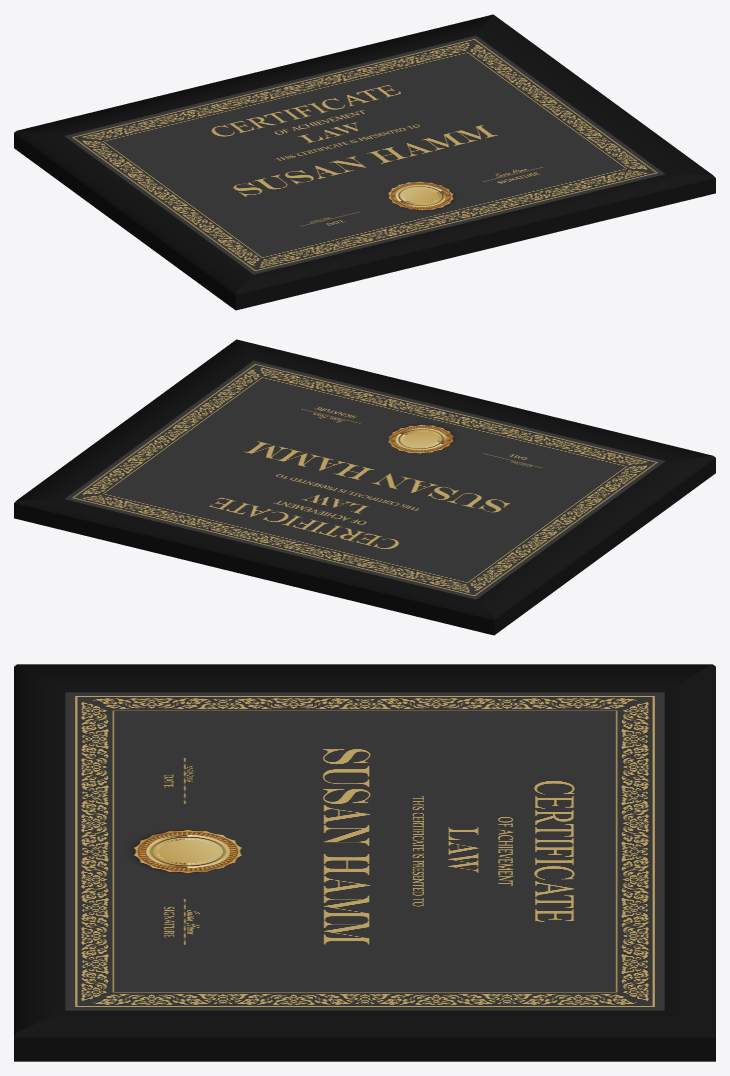
File: Lawyer degree.FBX
3 views of the same model, one above another, from view 1: azimuth 30°, elevation 25°; view 2: azimuth 150°, elevation 25°; view 3: azimuth 270°, elevation 25° (orthographic). The views are drawn at different scales.
Visible parts, largest first — view 1: Box001; view 2: Box001; view 3: Box001.
Boxes of the visible parts, bbox=[...] form: Box001: bbox=[14, 14, 715, 310]; Box001: bbox=[14, 339, 715, 635]; Box001: bbox=[14, 664, 715, 1061].
Size of the model in its own units: 11.83 by 0.4192 by 9.46.
2 materials, 1 textured.
